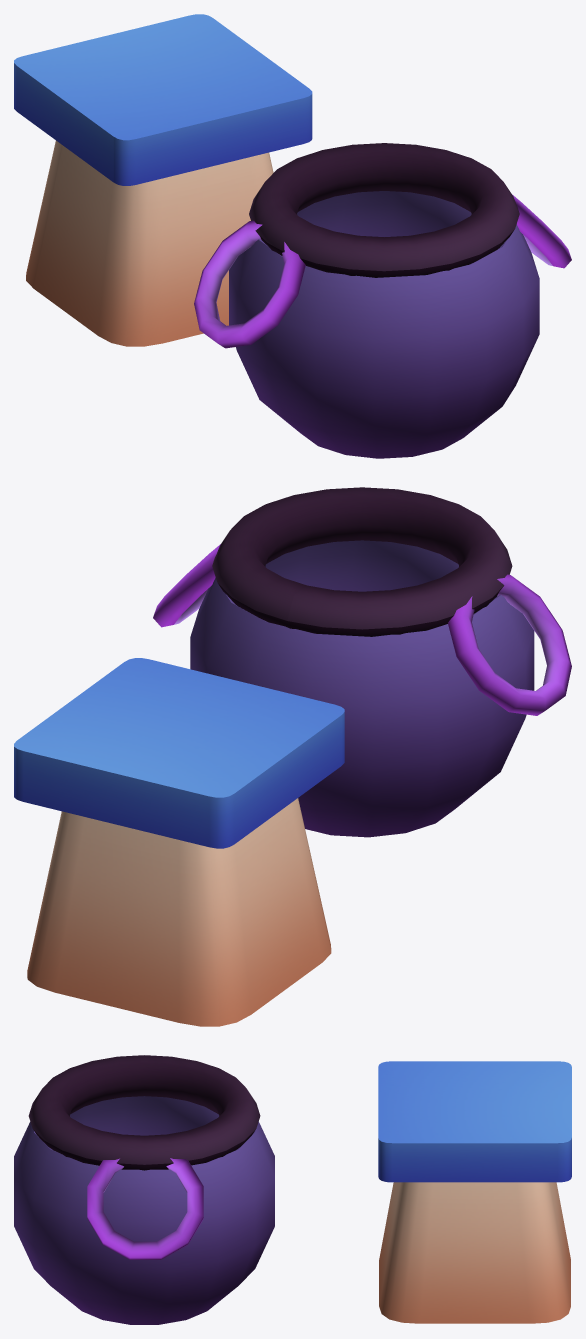
Rendered from MEO_MarmitteTable.fbx.
The picture shows the model from 3 angles, top to bottom: view 1: azimuth 30°, elevation 25°; view 2: azimuth 150°, elevation 25°; view 3: azimuth 270°, elevation 25°; orthographic projection. The views are drawn at different scales.
Parts seen in each view (by area): view 1: MEO_Marmitte, MEO_Table; view 2: MEO_Table, MEO_Marmitte; view 3: MEO_Marmitte, MEO_Table.
Part boxes in pixels (x1,y1,x2,y2): MEO_Marmitte: (194,143,571,458); MEO_Table: (14,14,312,346); MEO_Table: (14,658,344,1026); MEO_Marmitte: (153,487,571,837); MEO_Marmitte: (14,1055,274,1324); MEO_Table: (378,1061,571,1323).
Bounding box in the file's own units: 1076 × 740 × 1744.
